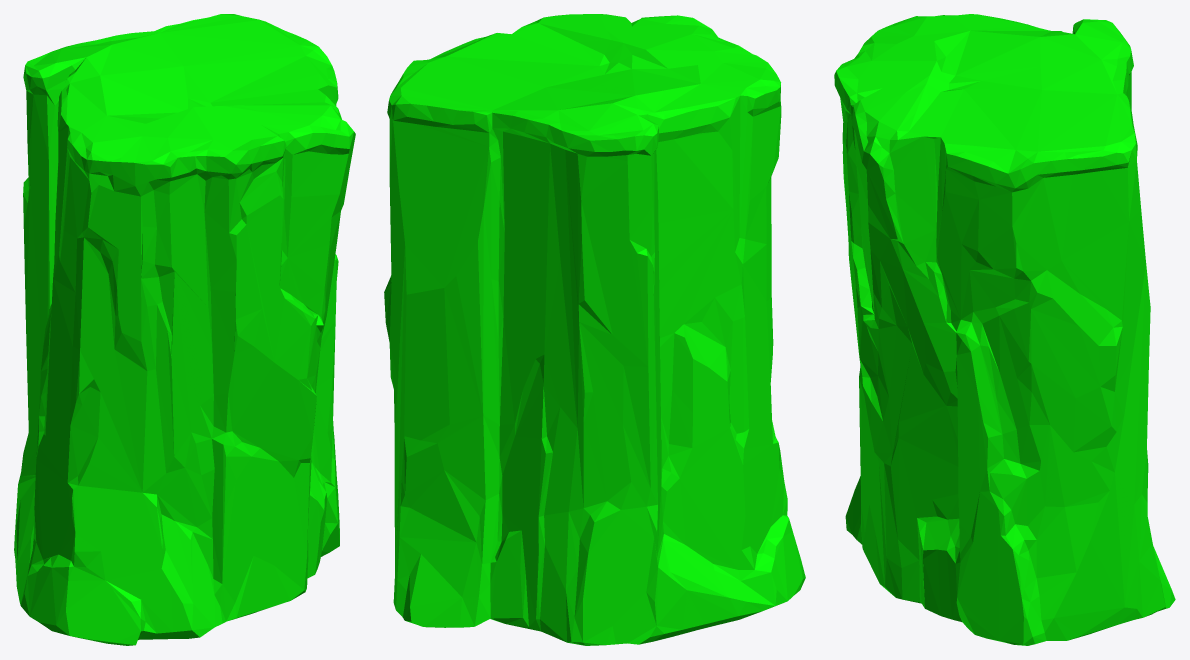
The model's file is SM_Iceberg_Big_A_Rock.fbx.
3 renders of one model, left to right at view 1: azimuth 30°, elevation 25°; view 2: azimuth 150°, elevation 25°; view 3: azimuth 270°, elevation 25°, orthographic. The views are drawn at different scales.
Parts seen in each view (by area): view 1: SM_Iceberg_Big_A_Rock; view 2: SM_Iceberg_Big_A_Rock; view 3: SM_Iceberg_Big_A_Rock.
Part boxes in pixels (<box>): SM_Iceberg_Big_A_Rock: <box>14,14,355,645</box>; SM_Iceberg_Big_A_Rock: <box>384,14,805,645</box>; SM_Iceberg_Big_A_Rock: <box>834,14,1175,645</box>.
Bounding box in the file's own units: 11.86 × 16.89 × 10.33.
